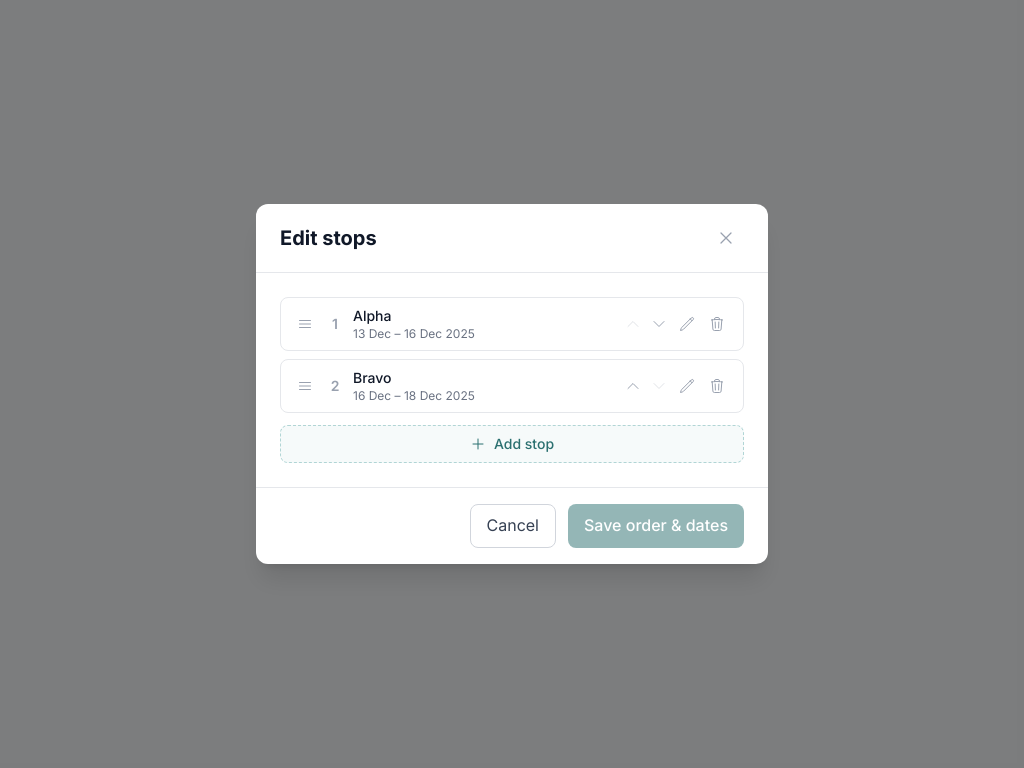
StopsEditor › opens the stop form pre-filled for editing
Step 1. Click the button named "Edit Alpha" → [687, 324], box 673,310 -> 701,338
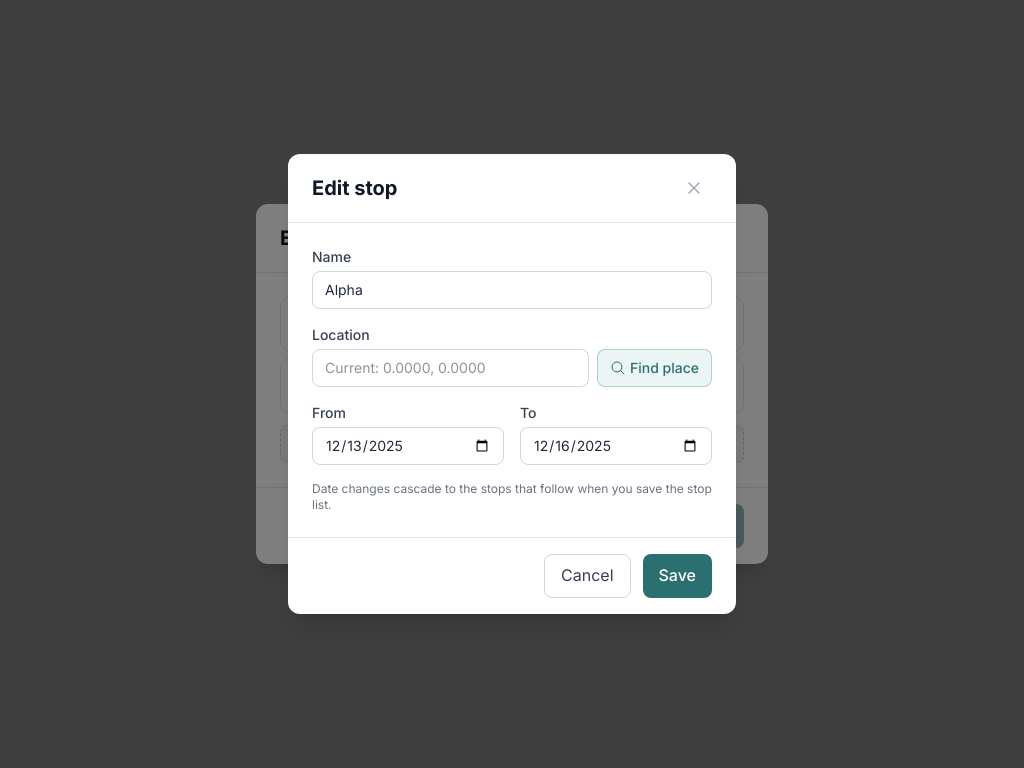
Result: the heading "Edit stop" is shown at 312,174 -> 398,202
Result: the field labelled "Name" holds "Alpha" at 312,271 -> 712,309
Result: the date field labelled "From" holds "2025-12-13" at 312,427 -> 504,465
